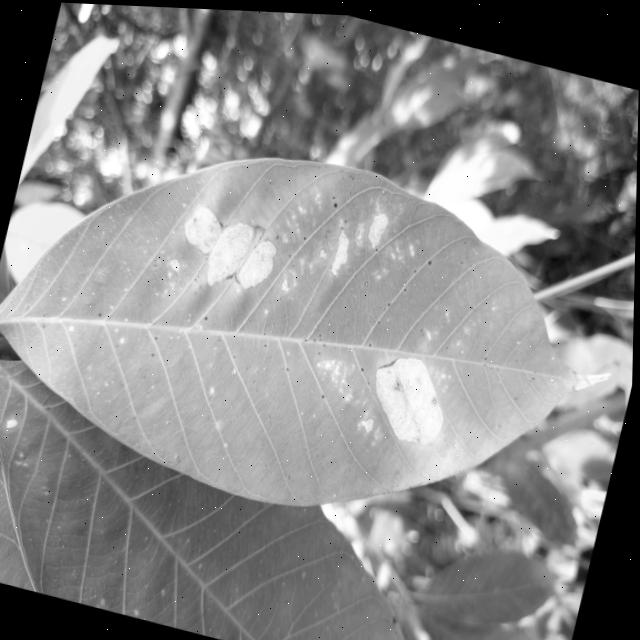Colletotrichum: (365, 276, 369, 282), (334, 198, 338, 203), (429, 255, 432, 259), (388, 298, 391, 301), (362, 363, 365, 366), (376, 244, 378, 246), (370, 340, 372, 342), (320, 348, 322, 350), (323, 391, 325, 393), (288, 364, 290, 366), (305, 233, 307, 235), (266, 341, 268, 343)
Leaf-Blight: (172, 197, 285, 297), (364, 343, 457, 444), (330, 222, 355, 275), (365, 204, 392, 246), (360, 411, 378, 428), (169, 254, 183, 271), (282, 275, 292, 288), (320, 242, 329, 256)
